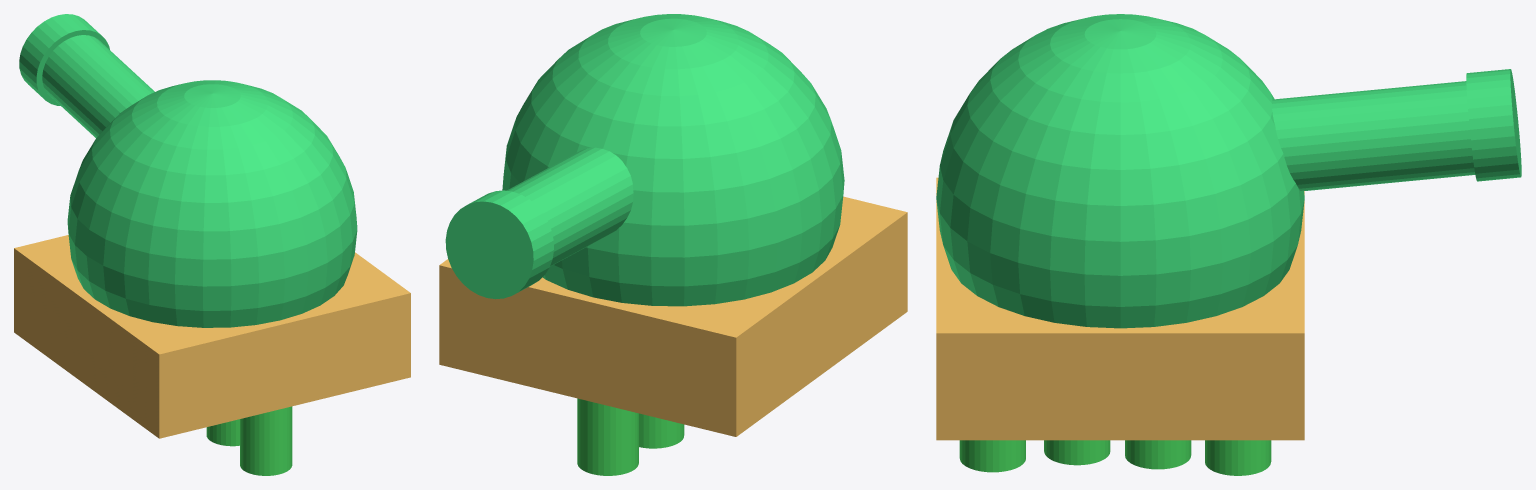
The model's file is doodle.fbx.
3 renders of one model, left to right at view 1: azimuth 30°, elevation 25°; view 2: azimuth 150°, elevation 25°; view 3: azimuth 270°, elevation 25°, orthographic. The views are drawn at different scales.
Parts seen in each view (by area): view 1: Цилиндр.001, Куб, Цилиндр.005; view 2: Цилиндр.001, Куб, Цилиндр.005; view 3: Цилиндр.001, Куб, Цилиндр.005.
Part boxes in pixels (x1,y1,x2,y2): Цилиндр.001: (19,14,357,327); Куб: (14,235,410,438); Цилиндр.005: (206,406,292,475); Цилиндр.001: (445,14,844,306); Куб: (439,196,907,436); Цилиндр.005: (577,398,684,475); Цилиндр.001: (936,14,1521,328); Куб: (936,177,1304,440); Цилиндр.005: (959,440,1271,475).
Size of the model in its own units: 200 by 255 by 318.
